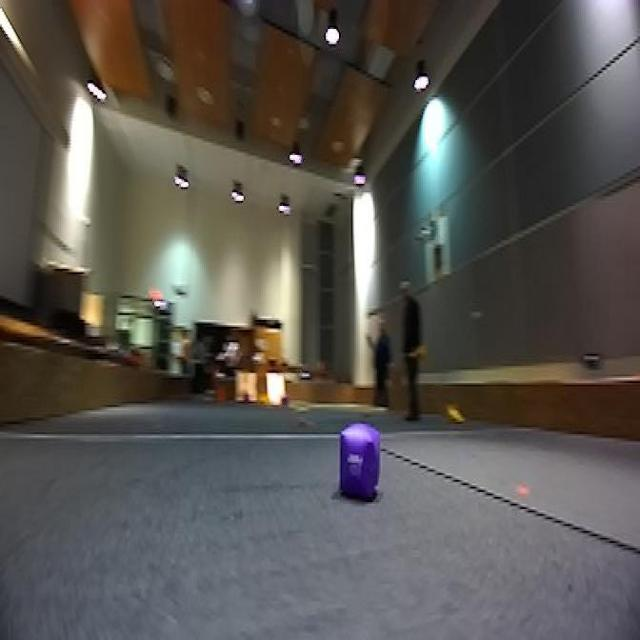frc_cone: (444, 396, 465, 426), (410, 342, 428, 363), (250, 390, 272, 407)
frc_cube: (339, 427, 380, 497), (238, 390, 252, 407), (280, 392, 292, 408)
